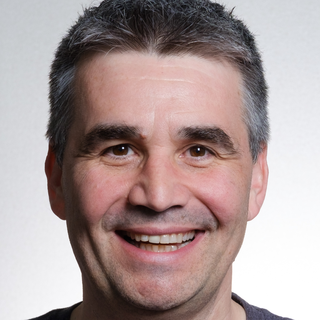eye: (173, 140, 225, 168), (96, 142, 148, 165)
